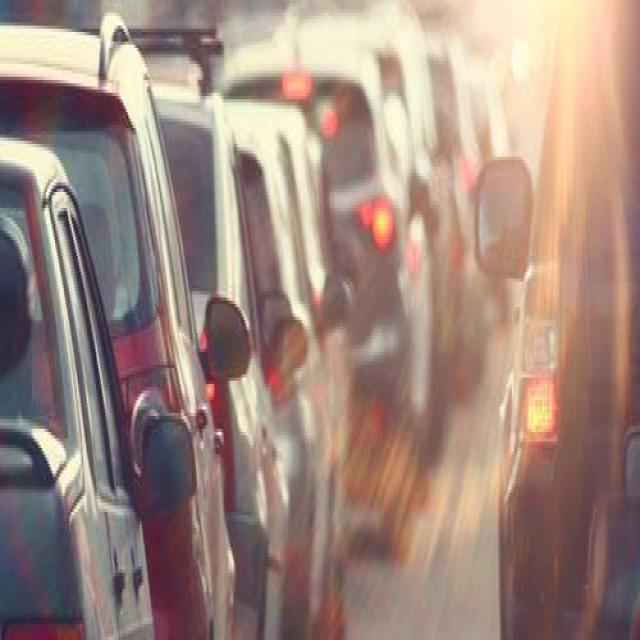other: (484, 2, 614, 177), (513, 341, 572, 453)
